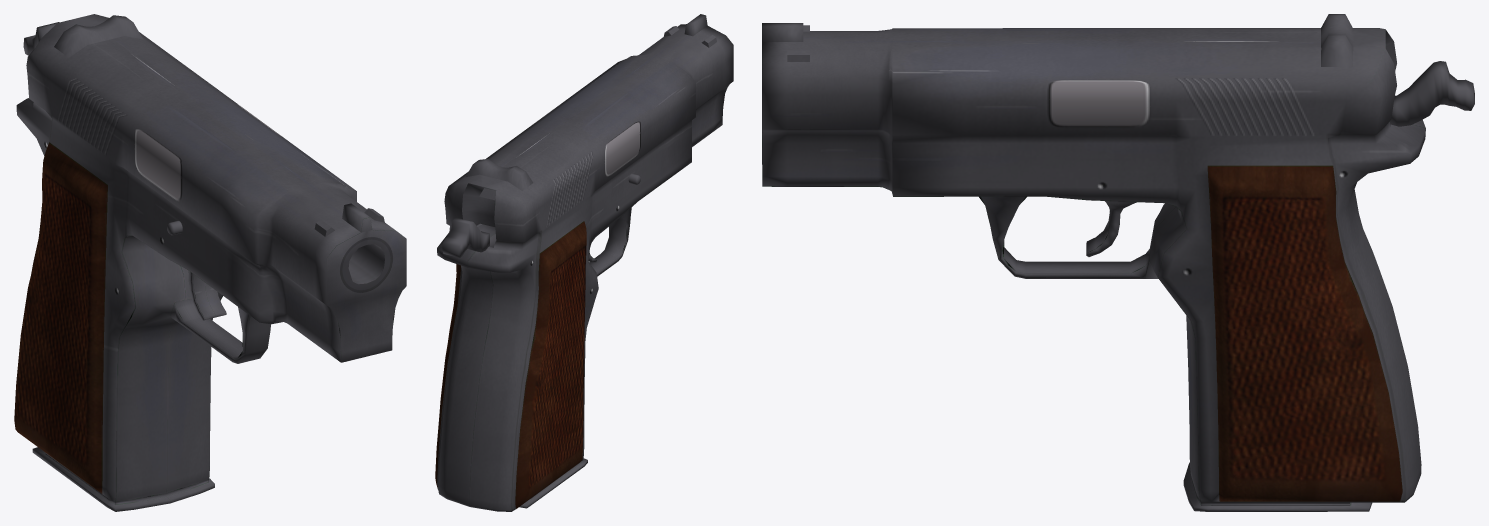
File: handgun.FBX
3 renders of one model, left to right at view 1: azimuth 30°, elevation 25°; view 2: azimuth 150°, elevation 25°; view 3: azimuth 270°, elevation 25°, orthographic. The views are drawn at different scales.
Visible parts, largest first — view 1: Gun; view 2: Gun; view 3: Gun.
Boxes of the visible parts, bbox=[...] form: Gun: bbox=[14, 14, 406, 511]; Gun: bbox=[435, 14, 733, 511]; Gun: bbox=[762, 14, 1474, 511].
Size of the model in its own units: 6.14 by 20.69 by 29.04.
2 materials, 1 textured.
